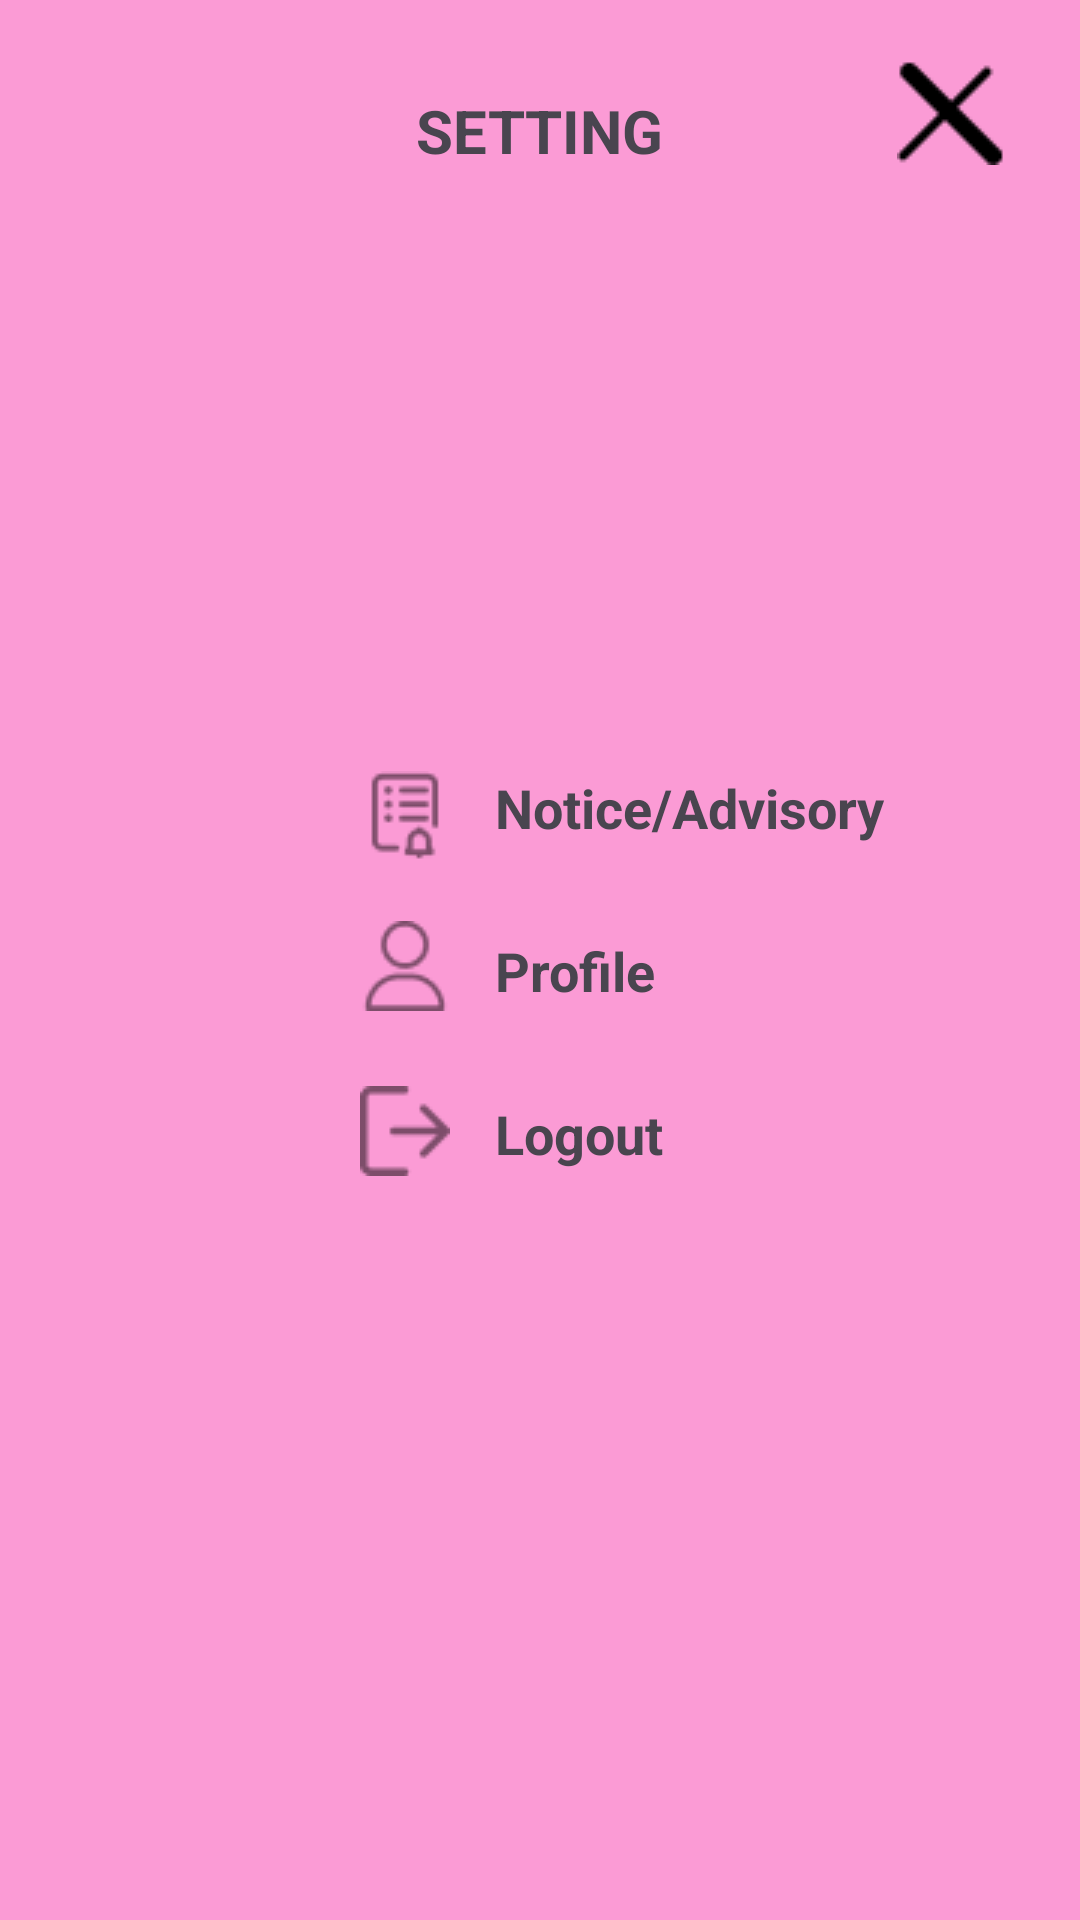

Icons on this 1080px×1920px Android screen, each with its box as region(x1, y1, x2, y2):
cross: region(897, 62, 1003, 165)
notice/advisiory: region(371, 773, 439, 859)
